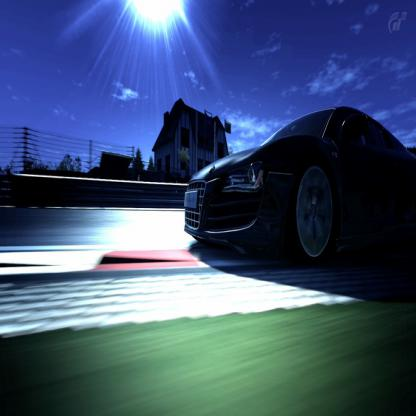Car: (184, 105, 415, 262)
